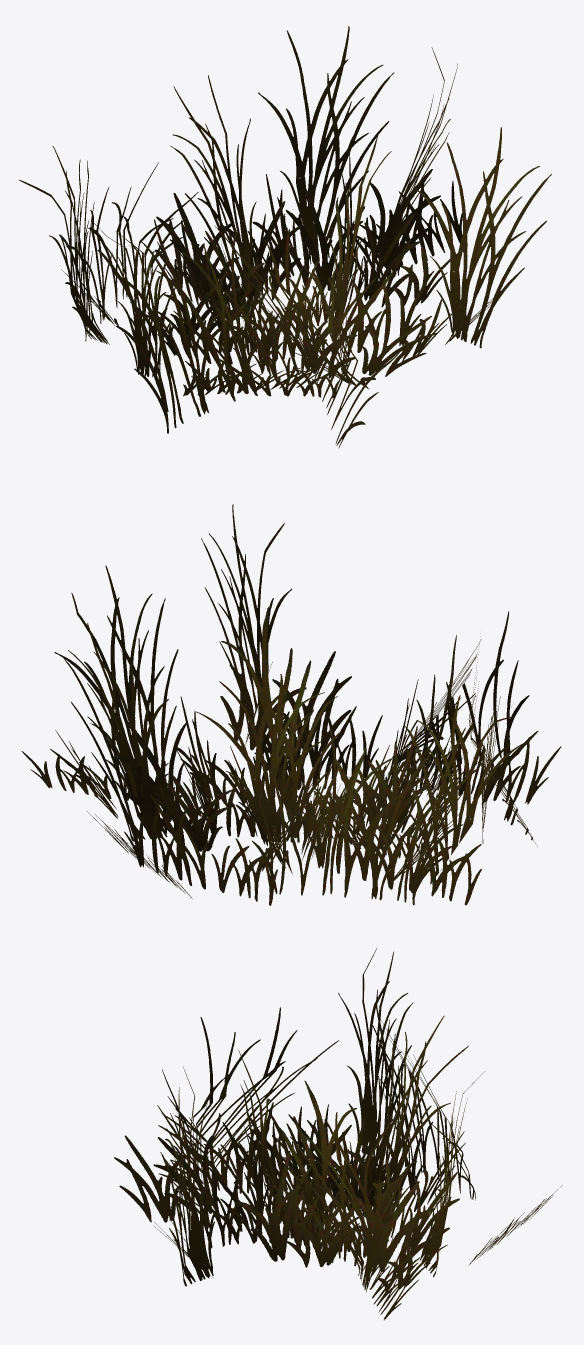
3 views of the same model, one above another, from view 1: azimuth 30°, elevation 25°; view 2: azimuth 150°, elevation 25°; view 3: azimuth 270°, elevation 25° (orthographic). The views are drawn at different scales.
Visible parts, largest first — view 1: SM_DR_GrassLong_02_LOD0; view 2: SM_DR_GrassLong_02_LOD0; view 3: SM_DR_GrassLong_02_LOD0.
Part boxes in pixels (x1=…): SM_DR_GrassLong_02_LOD0: x1=19, y1=26, x2=551, y2=448; SM_DR_GrassLong_02_LOD0: x1=21, y1=504, x2=561, y2=905; SM_DR_GrassLong_02_LOD0: x1=114, y1=948, x2=562, y2=1320.
Size of the model in its own units: 1.19 by 0.6417 by 1.31.
1 material, 1 textured.
